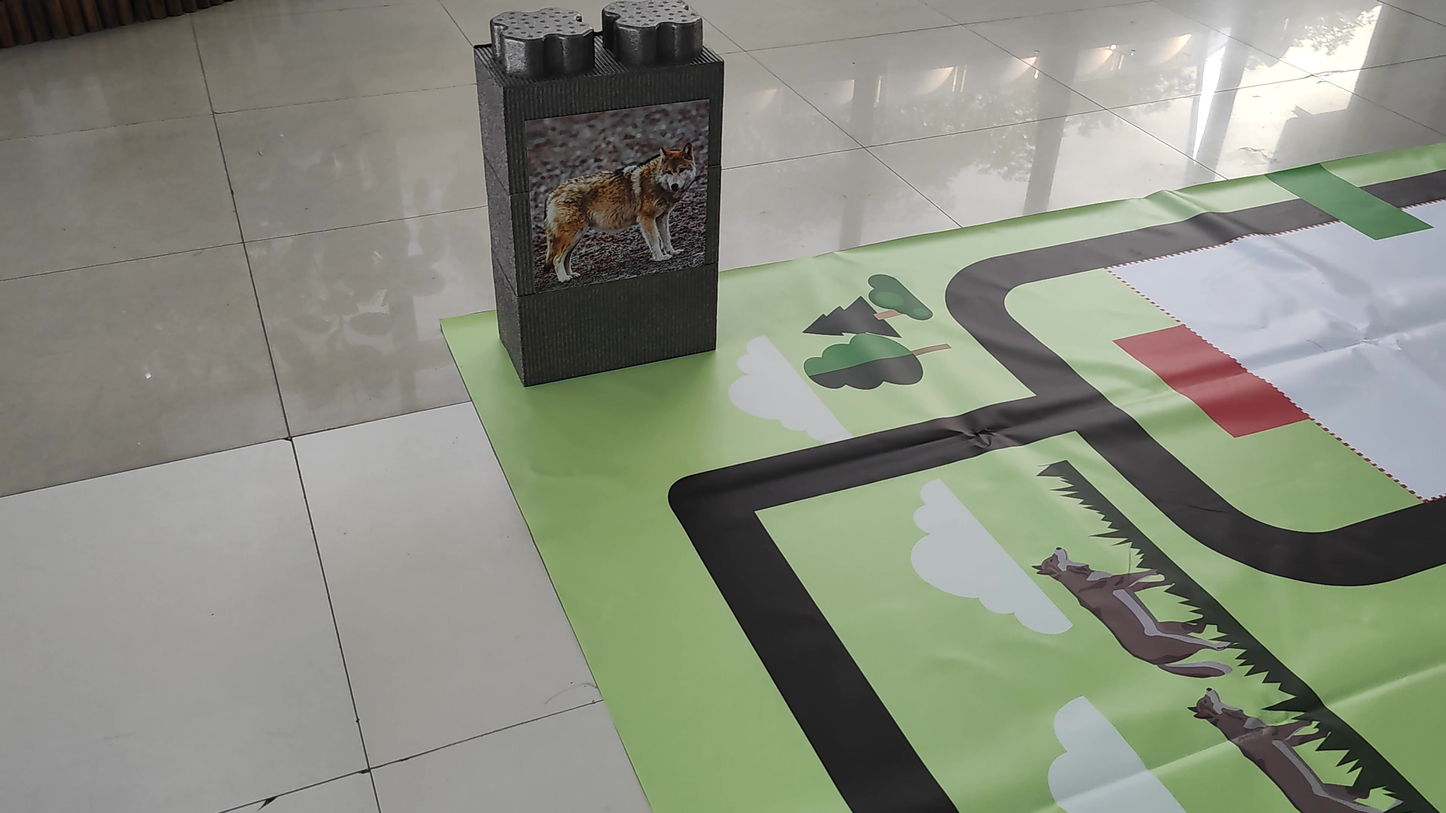wolf: (534, 127, 712, 295)
